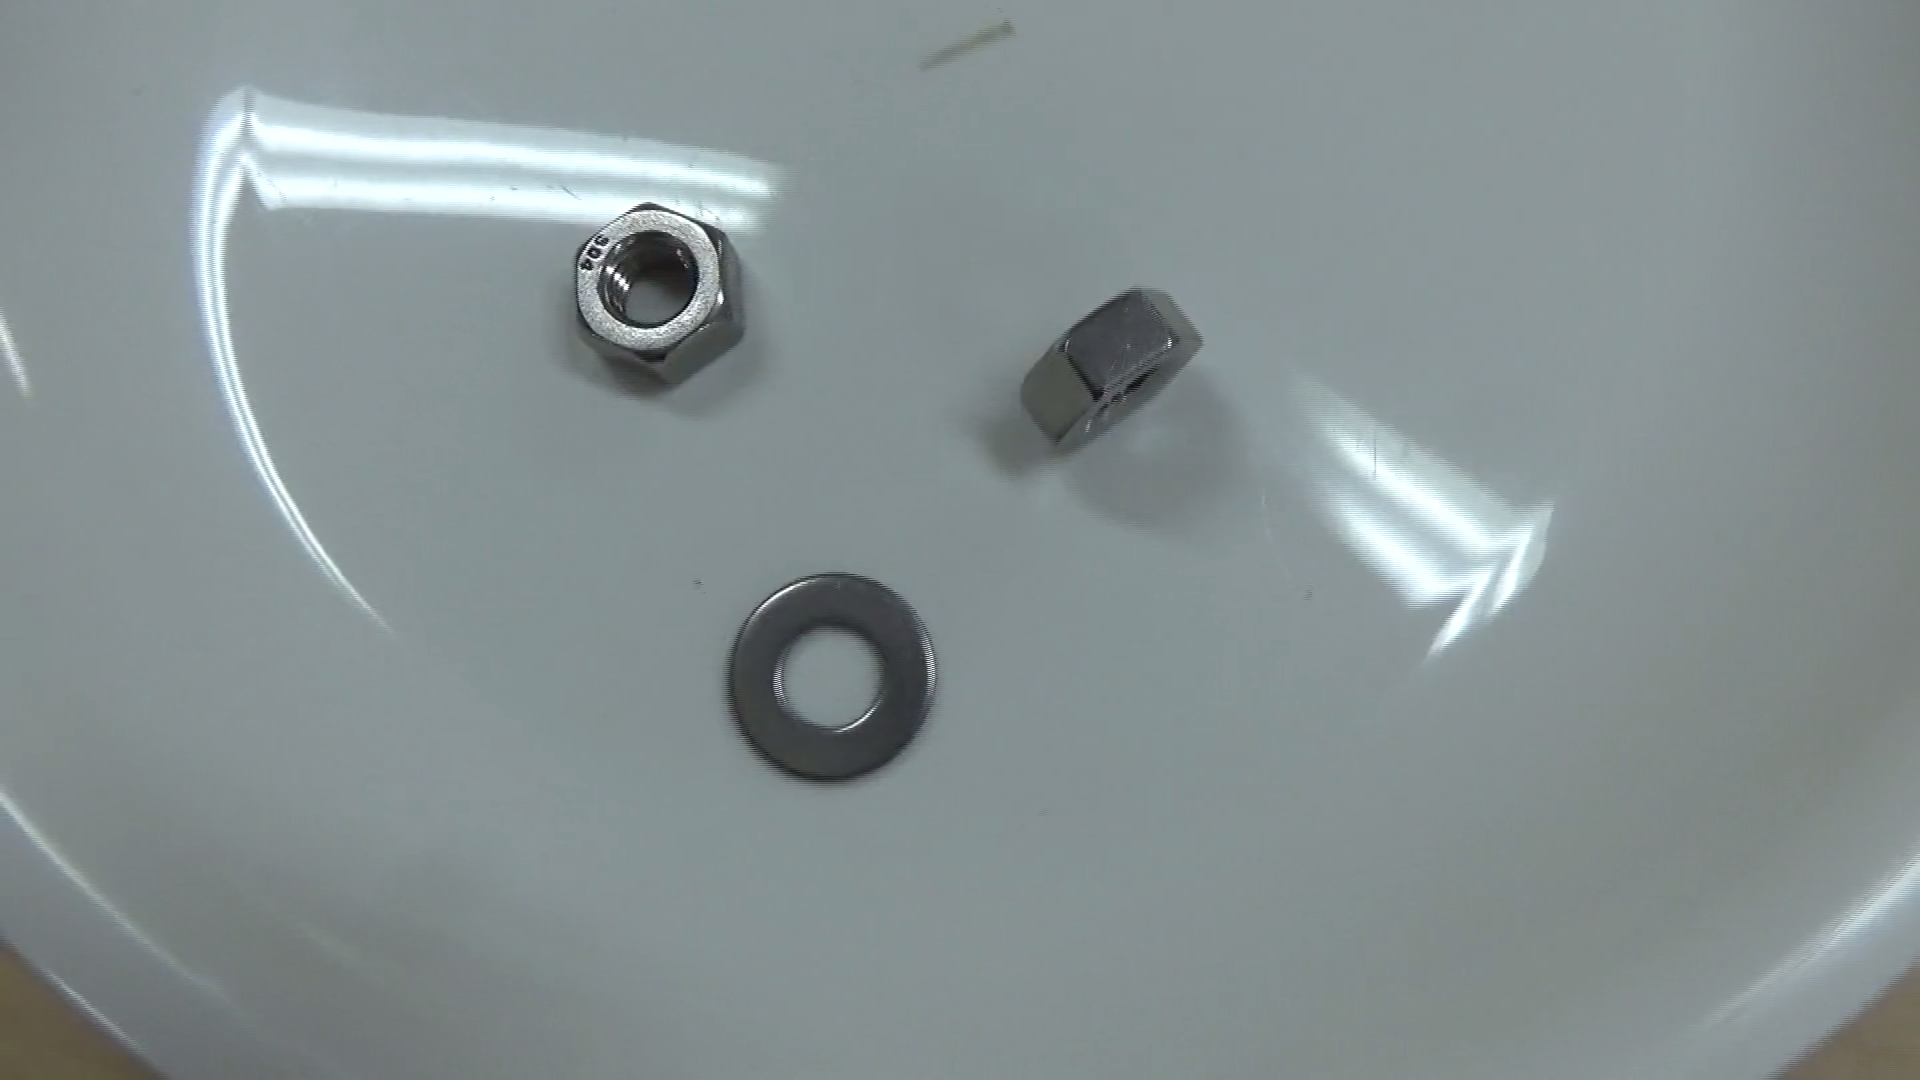nut: (554, 193, 761, 400), (1009, 270, 1205, 471)
washer: (716, 559, 951, 793)
